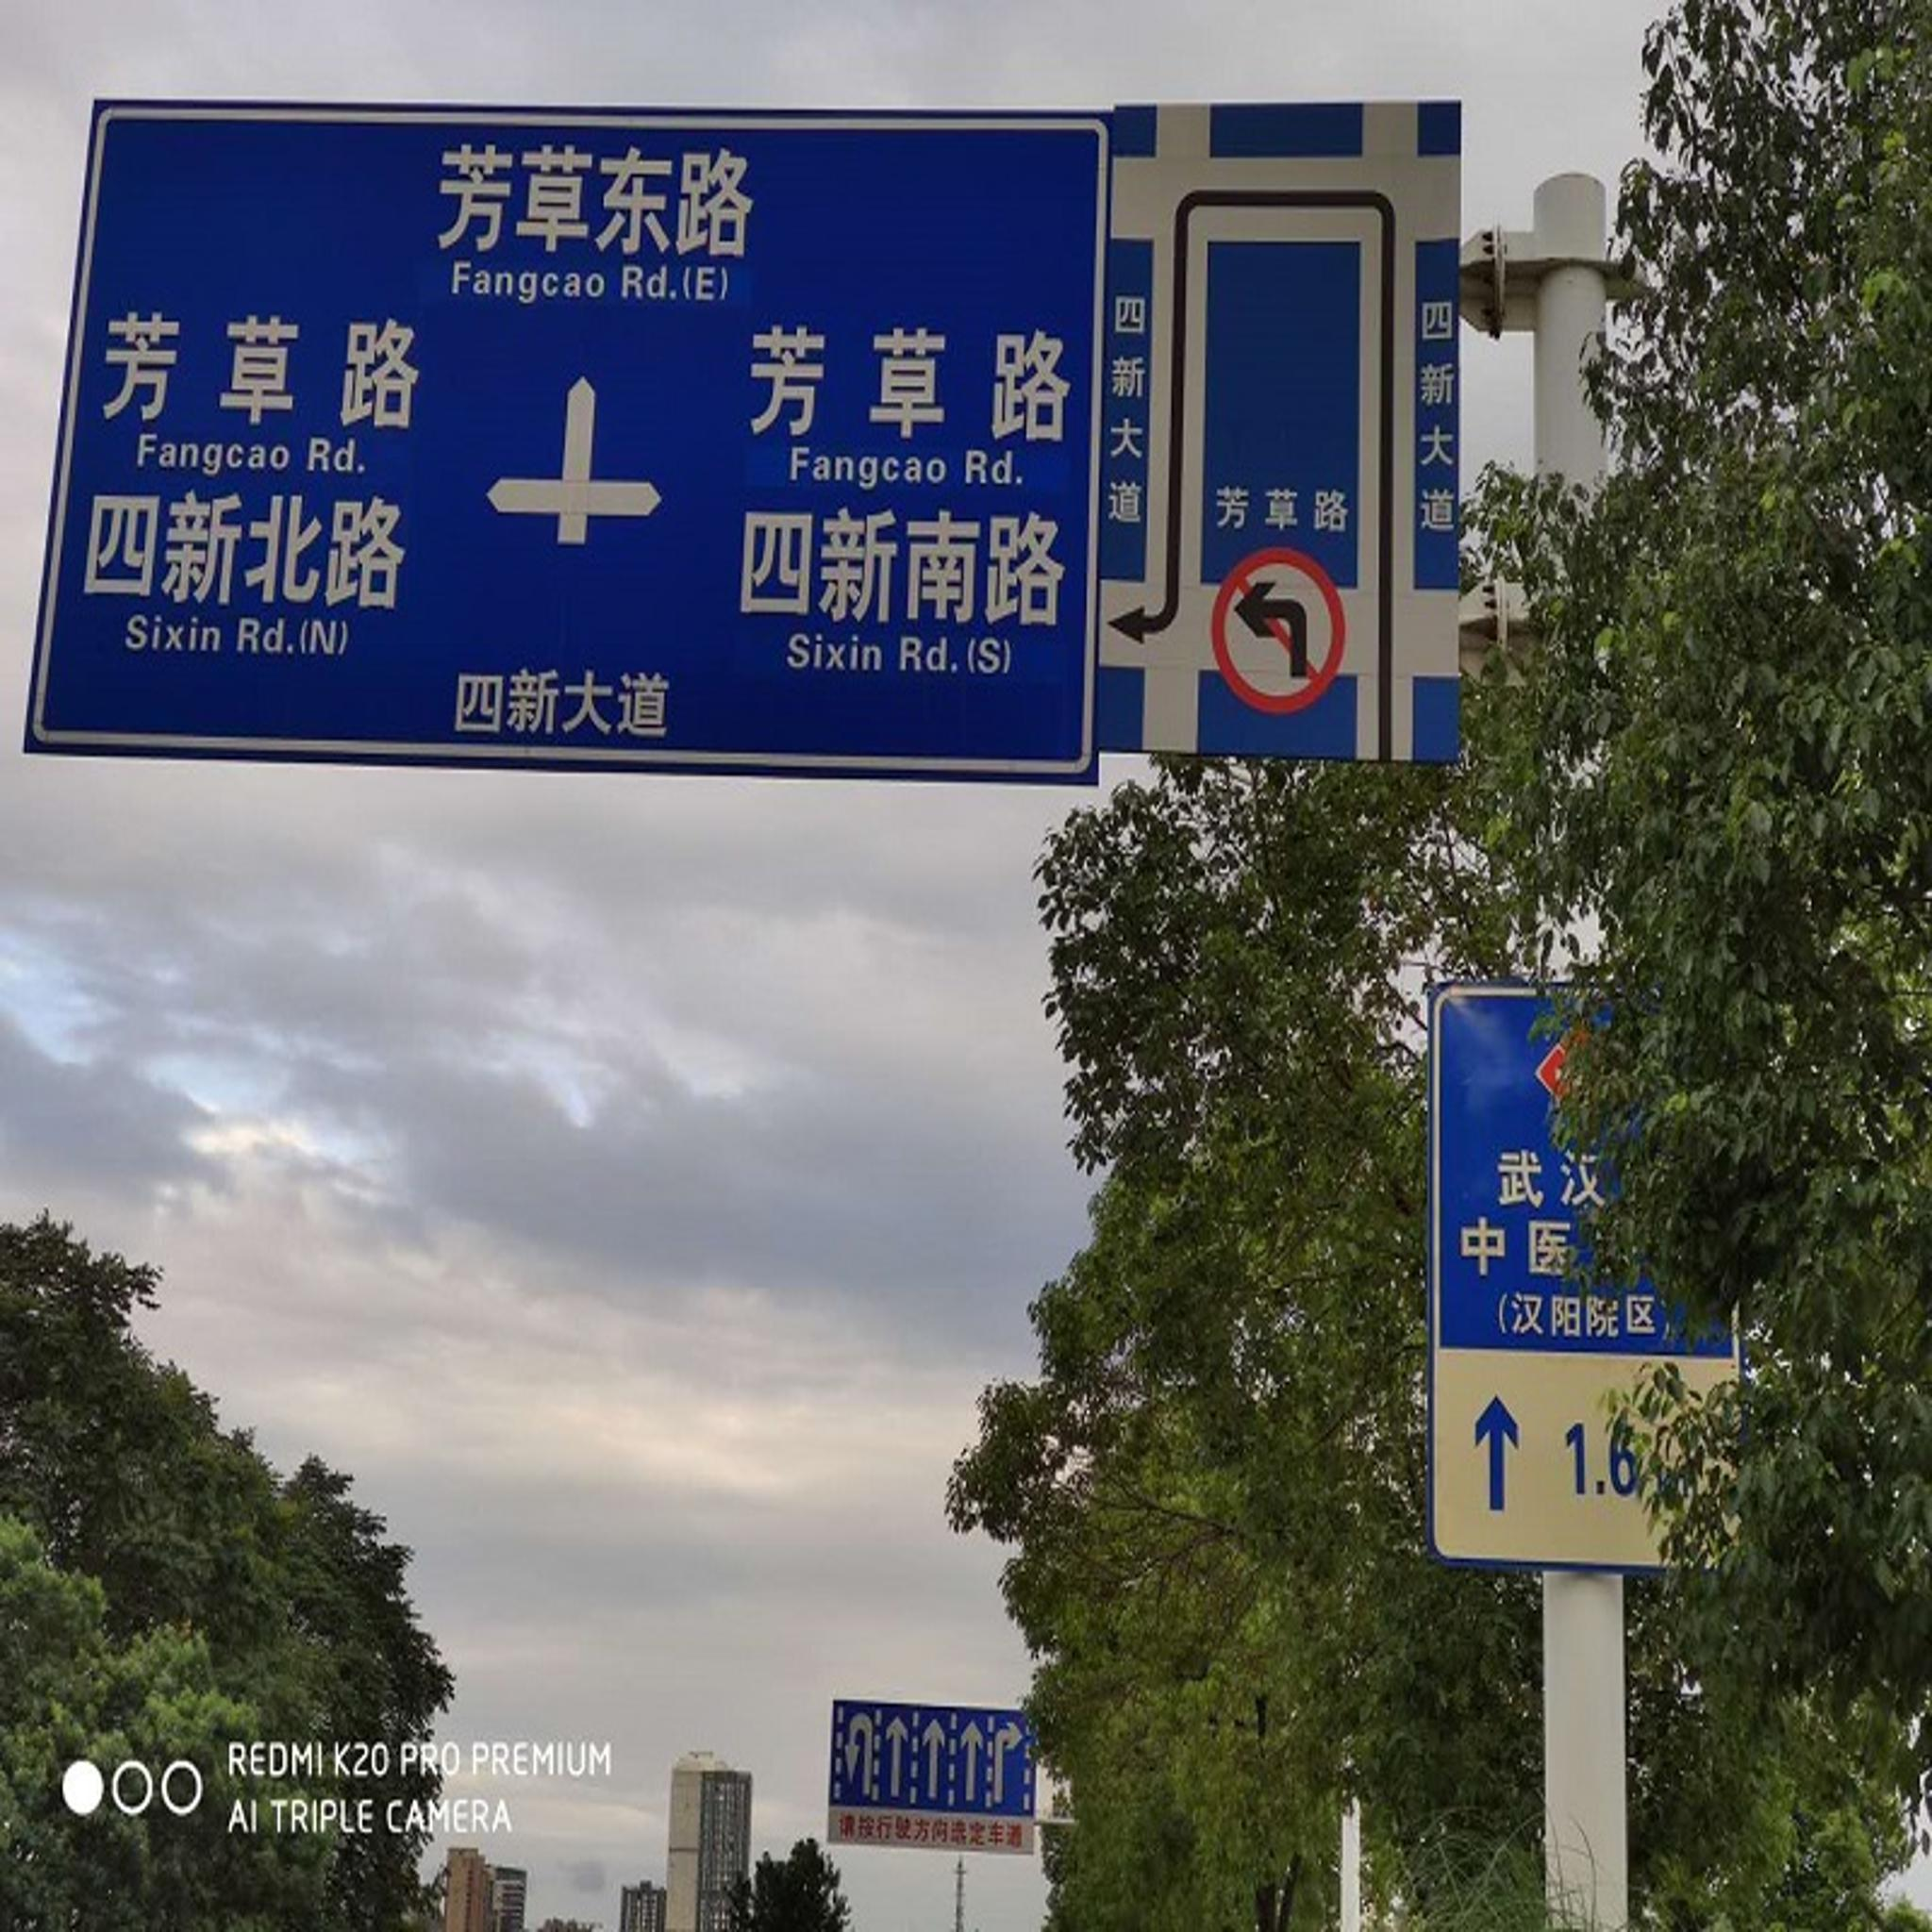p23: (1212, 547, 1345, 715)
